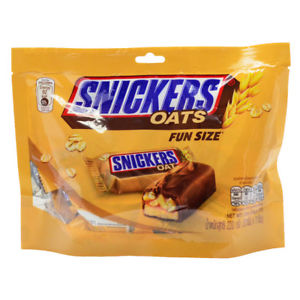snickers: (69, 77, 219, 113), (111, 149, 176, 170)
